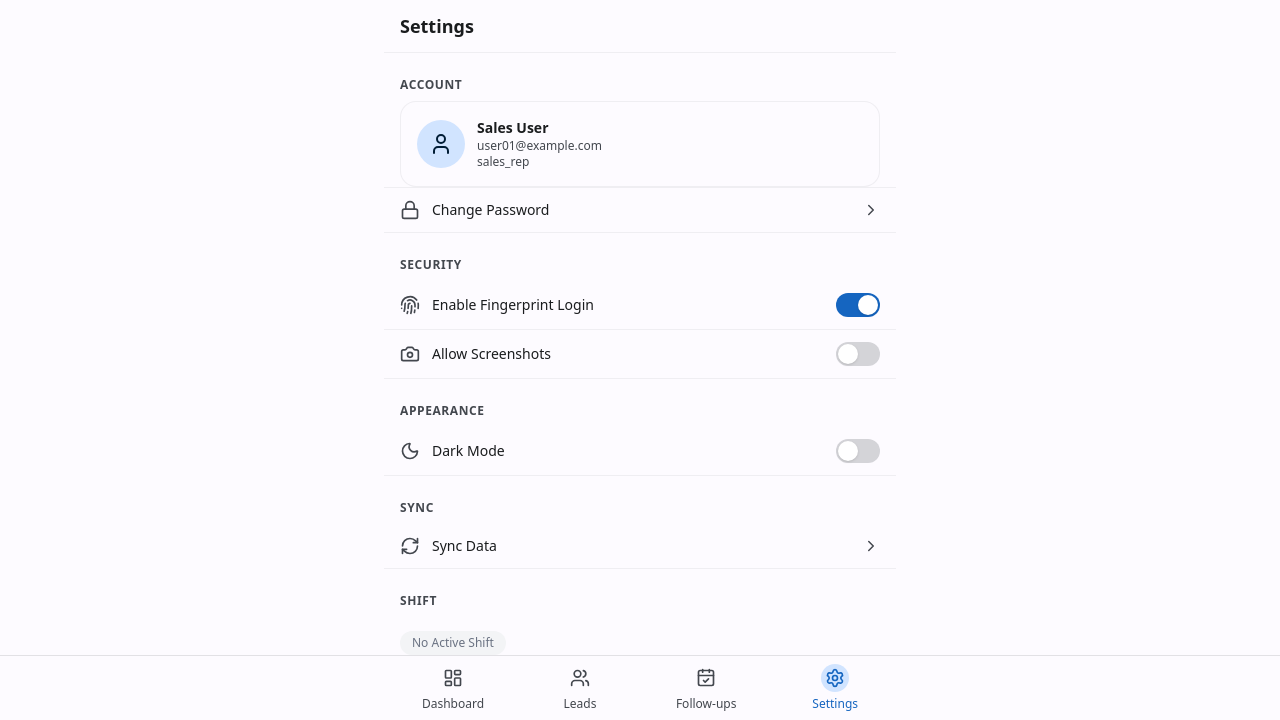
Scenario: SettingsPage › shows "Fingerprint disabled" snackbar when fingerprint is disabled
Click the switch in the row of "Enable Fingerprint Login" at (858, 305), box [836, 293, 880, 317]
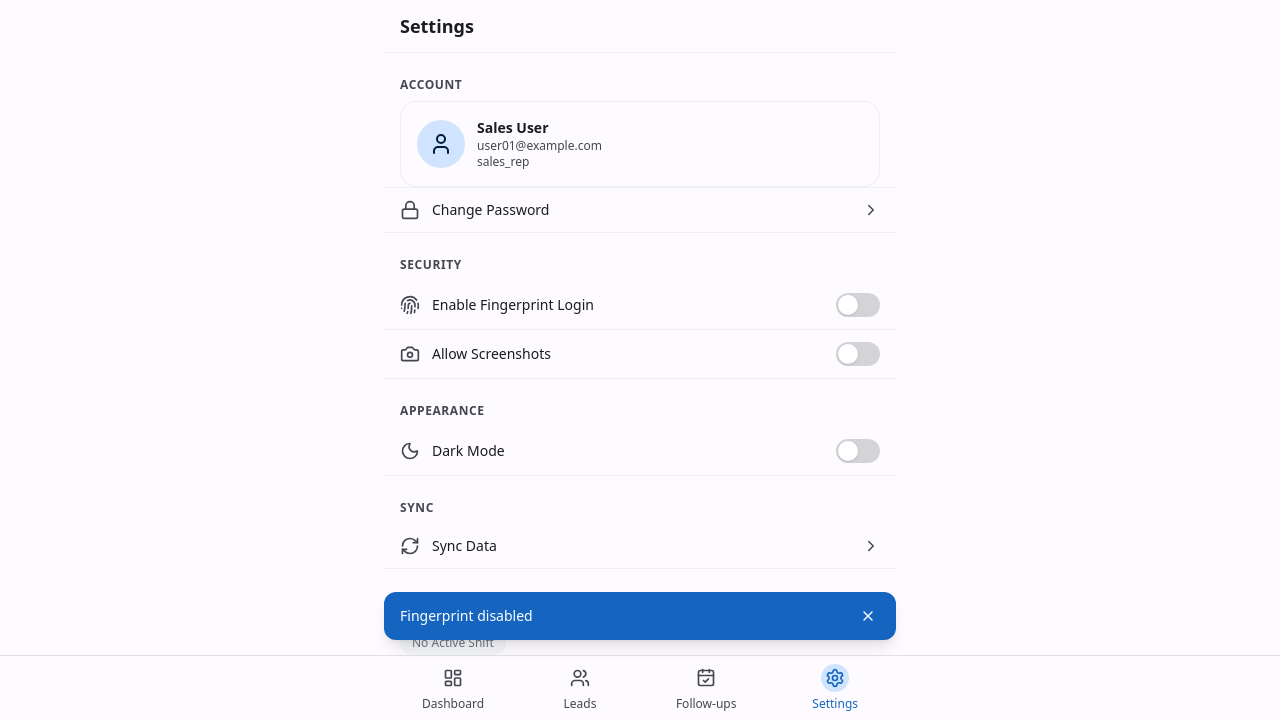
Expected: the text "Fingerprint disabled" is shown, [400, 606, 533, 626]
